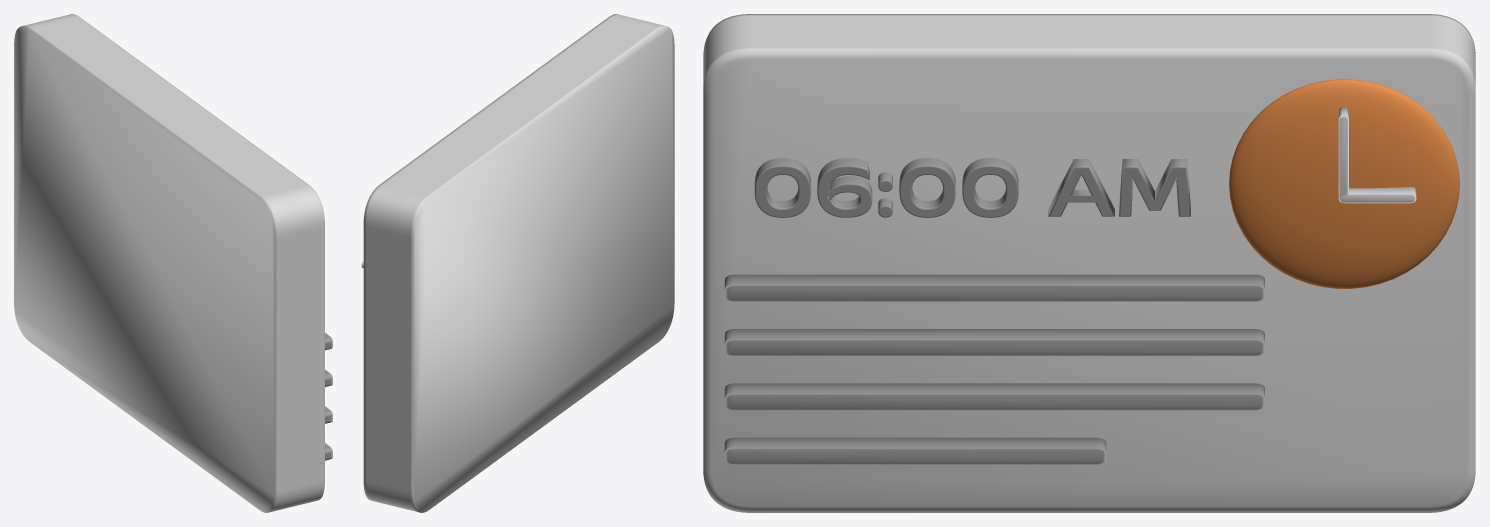
File: calendar-v2-block01.gltf
The picture shows the model from 3 angles, left to right: view 1: azimuth 30°, elevation 25°; view 2: azimuth 150°, elevation 25°; view 3: azimuth 270°, elevation 25°; orthographic projection. The views are drawn at different scales.
Parts seen in each view (by area): view 1: block02; view 2: block02; view 3: block02.
Part boxes in pixels (<box>): block02: <box>14,14,332,512</box>; block02: <box>361,14,674,512</box>; block02: <box>703,14,1475,512</box>.
Size of the model in its own units: 0.0727 by 0.3 by 0.4537.
